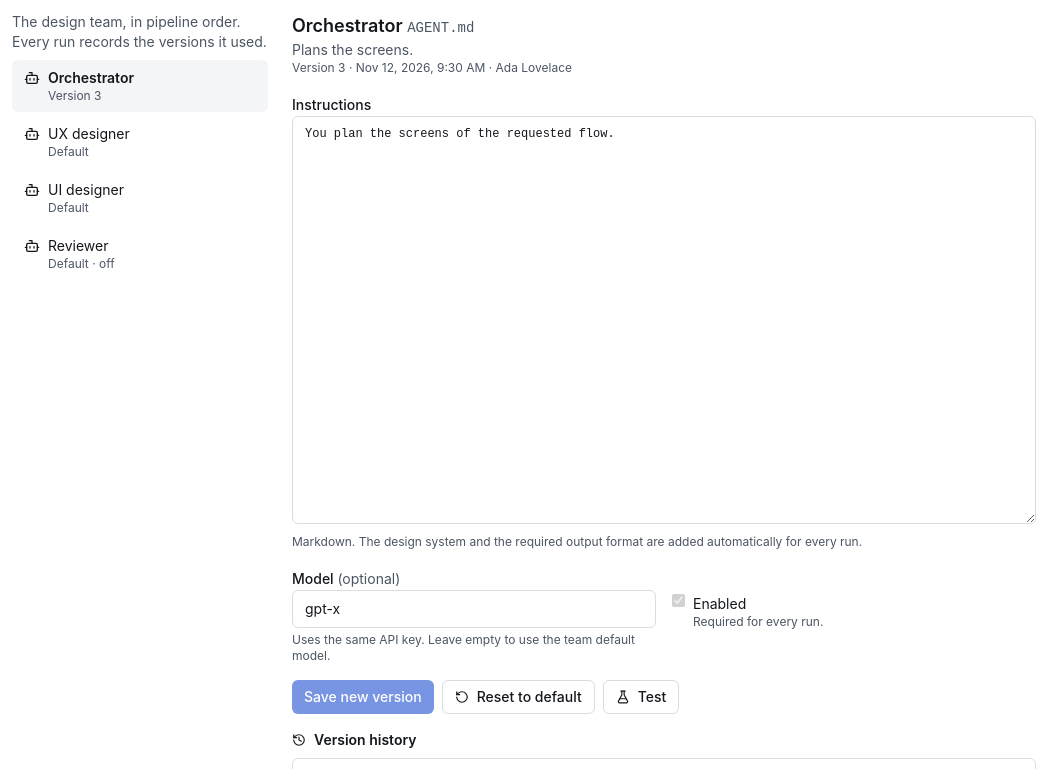
Test: AgentsPage › does not let required agents be disabled
The image size is (1048, 769).
Check: the checkbox labelled "Enabled Required for every run." is disabled, box [672,594,685,607]
Check: the text "Required for every run." is shown, box [693,614,823,630]
Click the button "UI designer Default": (140, 198) [12,172,268,224]
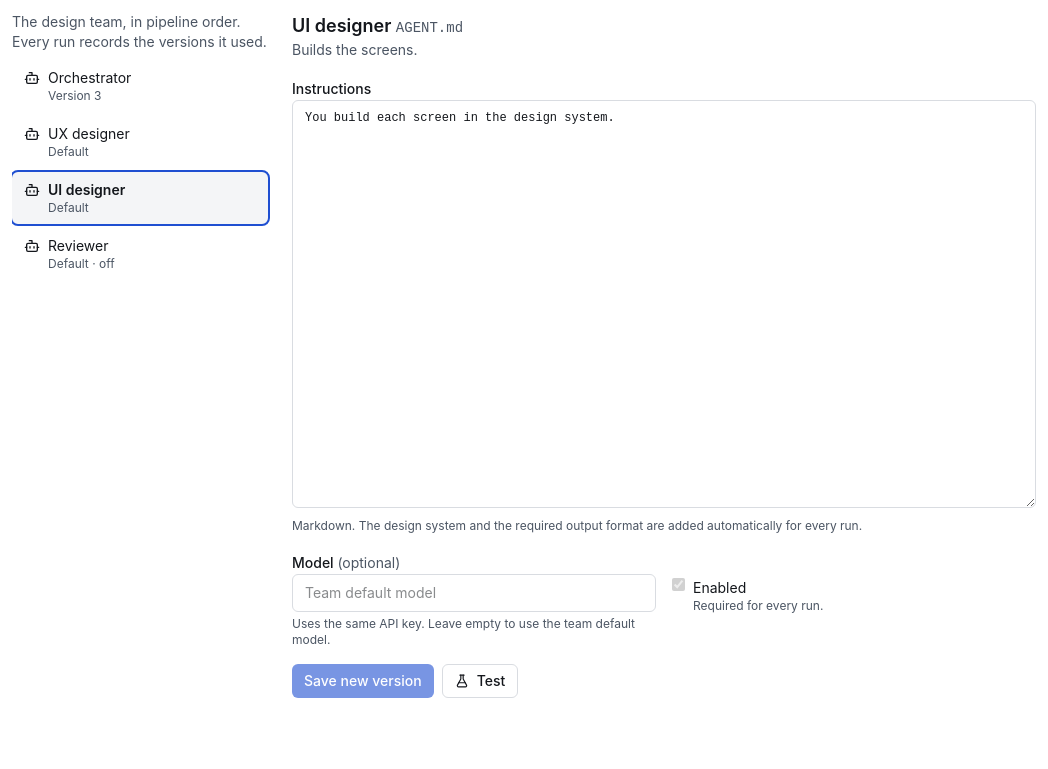
Check: the checkbox labelled "Enabled Required for every run." is disabled, box [672,578,685,591]
Check: the checkbox labelled "Enabled Required for every run." is checked, box [672,578,685,591]
Click the button "Reviewer Default · off": (140, 254) [12,228,268,280]
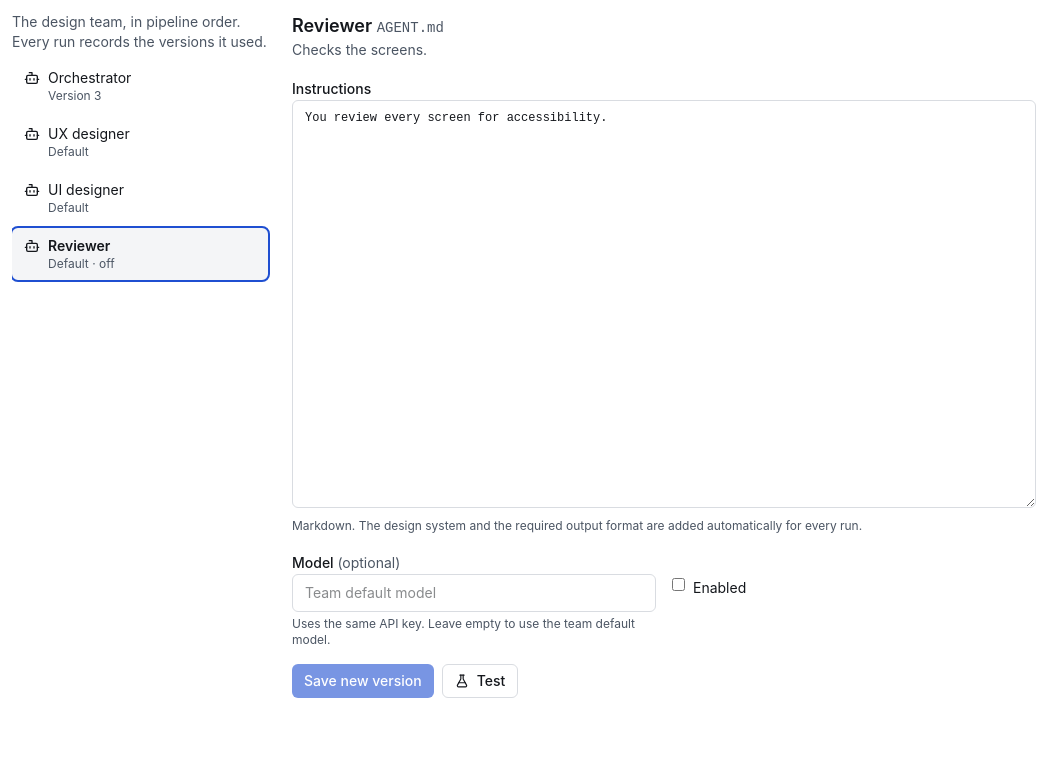
Check: the checkbox labelled "Enabled" is enabled, box [672,578,685,591]
Check: the checkbox labelled "Enabled" is not checked, box [672,578,685,591]
Check: the text "Required for every run." is gone
